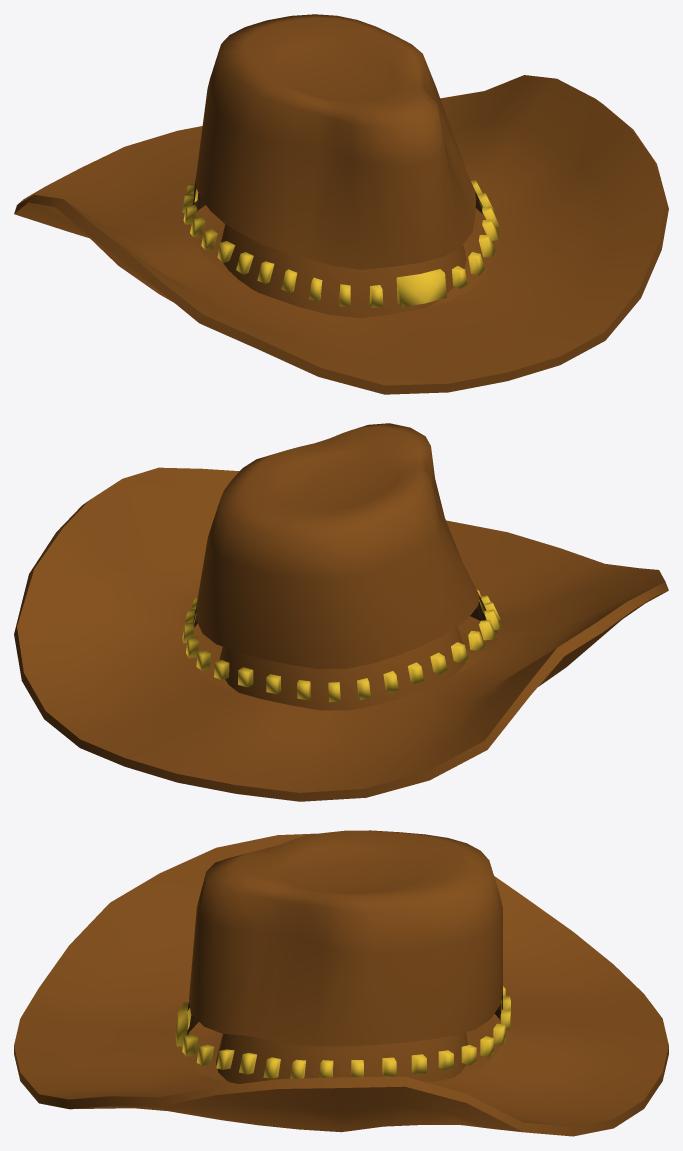
File: HAT.glb
3 views of the same model, one above another, from view 1: azimuth 30°, elevation 25°; view 2: azimuth 150°, elevation 25°; view 3: azimuth 270°, elevation 25° (orthographic).
Parts seen in each view (by area): view 1: Cylinder; view 2: Cylinder; view 3: Cylinder.
Boxes of the visible parts, x1,y1,x2,y2 form: Cylinder: (14, 14, 668, 394); Cylinder: (14, 423, 668, 801); Cylinder: (14, 830, 668, 1136).
Bounding box in the file's own units: 3.7 × 1.4 × 4.06.
